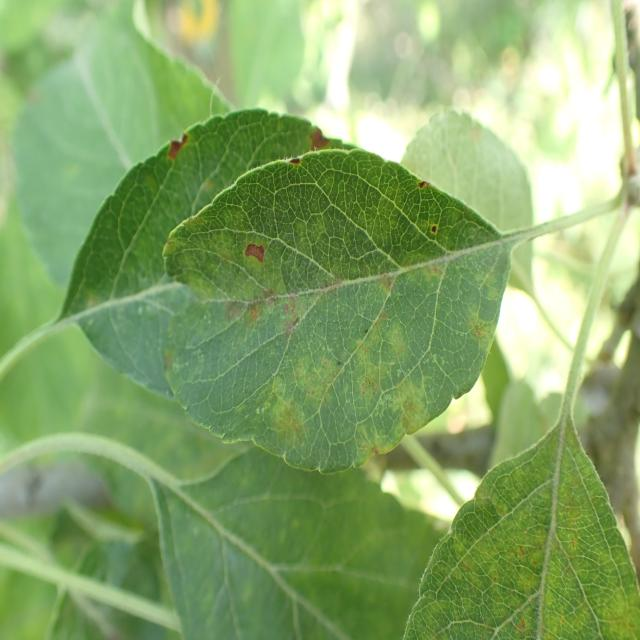scab: (178, 194, 510, 455)
